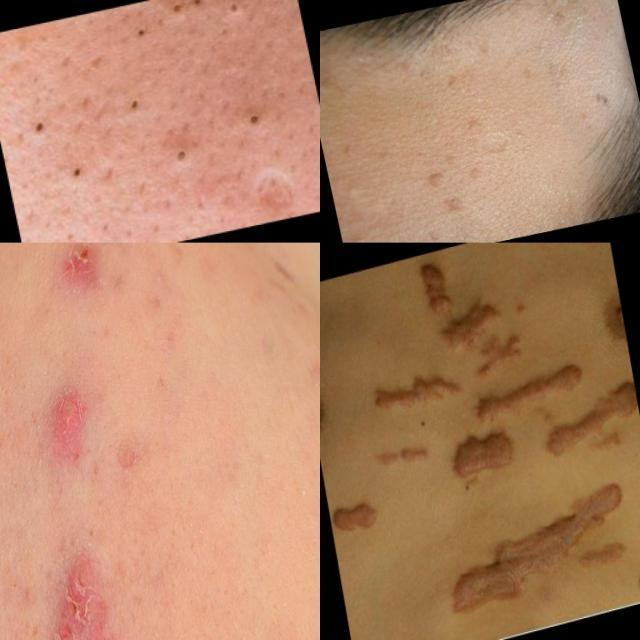Acne: (0, 0, 264, 181), (411, 16, 593, 220), (43, 545, 121, 640), (42, 384, 98, 464), (52, 238, 103, 290)
